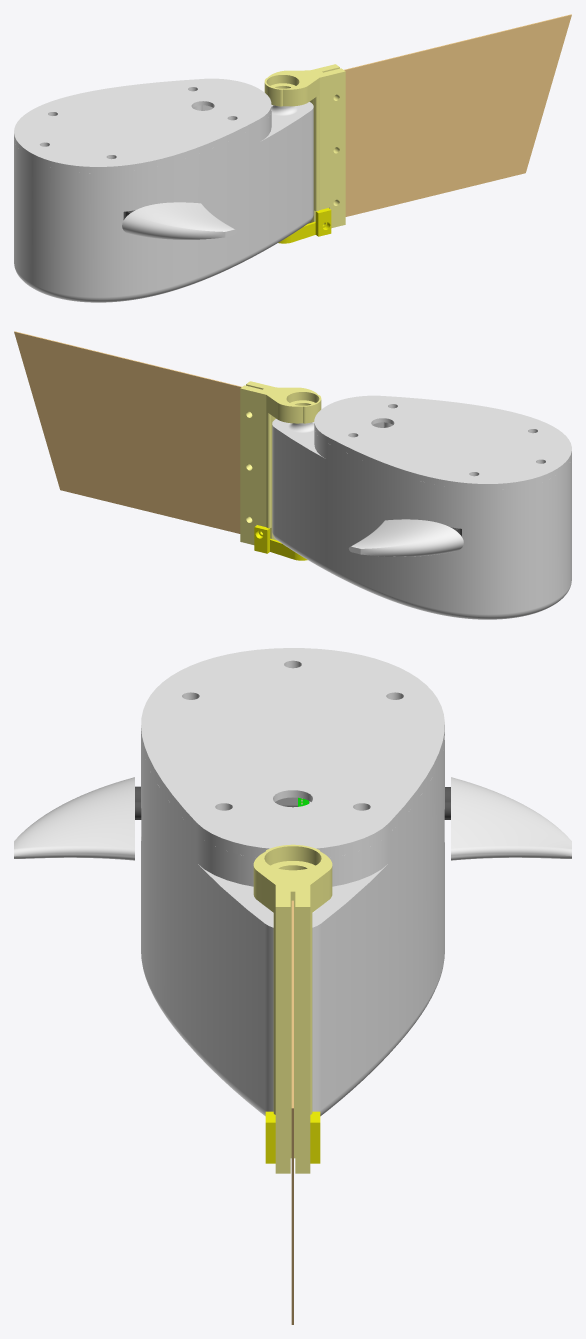
Rendered from Fish_assembly.glb.
3 views of the same model, one above another, from view 1: azimuth 30°, elevation 25°; view 2: azimuth 150°, elevation 25°; view 3: azimuth 270°, elevation 25° (orthographic). The views are drawn at different scales.
Visible parts, largest first — view 1: shell_curve_Servo2-1, Tail_cross-1, C_lid_switch_2holes-1, Cont_shell_curve_servo_tail4-1, Side_fin-2, Cont_shell_curve_servo_horn_correct-1; view 2: shell_curve_Servo2-1, Tail_cross-1, C_lid_switch_2holes-1, Cont_shell_curve_servo_tail4-1, Side_fin-1, Cont_shell_curve_servo_horn_correct-1; view 3: shell_curve_Servo2-1, C_lid_switch_2holes-1, Cont_shell_curve_servo_tail4-1, Side_fin-2, Side_fin-1, Tail_cross-1, Cont_shell_curve_servo_horn_correct-1.
Boxes of the visible parts, left/top/right/bottom form: shell_curve_Servo2-1: left=14, top=102, right=313, bottom=302; Tail_cross-1: left=344, top=14, right=571, bottom=216; C_lid_switch_2holes-1: left=14, top=78, right=271, bottom=173; Cont_shell_curve_servo_tail4-1: left=264, top=64, right=345, bottom=228; Side_fin-2: left=122, top=202, right=236, bottom=239; Cont_shell_curve_servo_horn_correct-1: left=278, top=208, right=331, bottom=243; shell_curve_Servo2-1: left=272, top=419, right=571, bottom=619; Tail_cross-1: left=14, top=331, right=241, bottom=533; C_lid_switch_2holes-1: left=314, top=395, right=571, bottom=490; Cont_shell_curve_servo_tail4-1: left=240, top=381, right=321, bottom=544; Side_fin-1: left=348, top=519, right=463, bottom=556; Cont_shell_curve_servo_horn_correct-1: left=254, top=525, right=307, bottom=560; shell_curve_Servo2-1: left=141, top=739, right=444, bottom=1116; C_lid_switch_2holes-1: left=141, top=648, right=444, bottom=857; Cont_shell_curve_servo_tail4-1: left=253, top=844, right=332, bottom=1173; Side_fin-2: left=14, top=777, right=134, bottom=860; Side_fin-1: left=451, top=777, right=571, bottom=860; Tail_cross-1: left=291, top=900, right=293, bottom=1324; Cont_shell_curve_servo_horn_correct-1: left=265, top=1111, right=320, bottom=1163.
Bounding box in the file's own units: 0.272 × 0.0742 × 0.1385.
